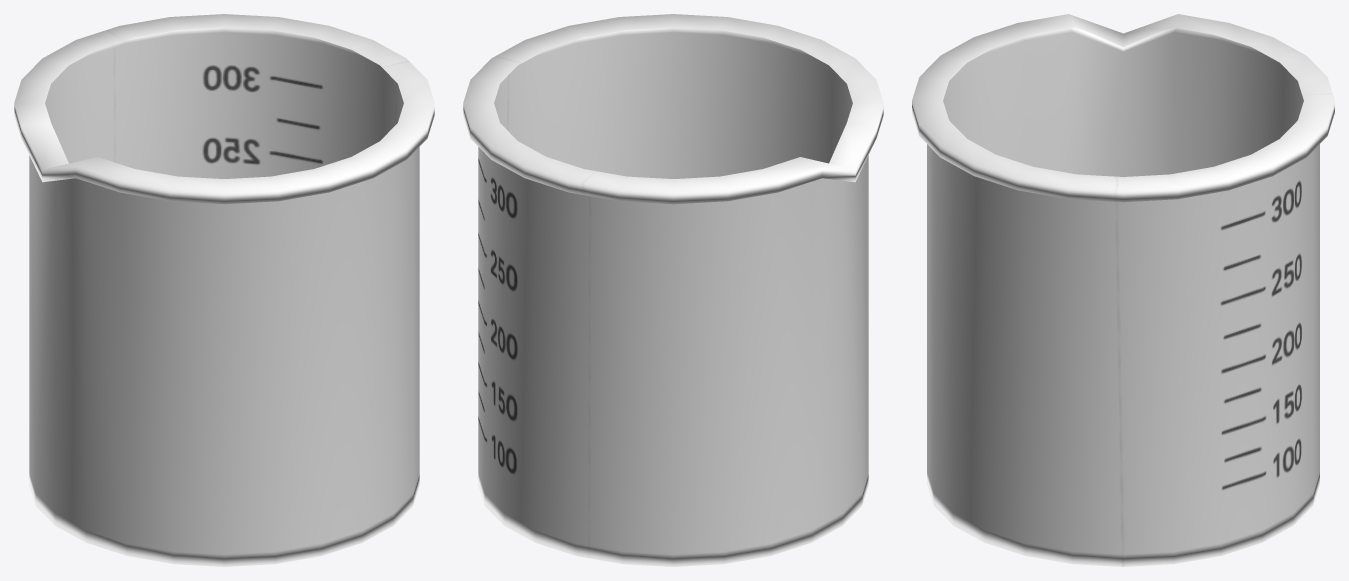
Rendered from Flask4.fbx.
The picture shows the model from 3 angles, left to right: view 1: azimuth 30°, elevation 25°; view 2: azimuth 150°, elevation 25°; view 3: azimuth 270°, elevation 25°; orthographic projection.
Parts seen in each view (by area): view 1: pCylinder3; view 2: pCylinder3; view 3: pCylinder3.
Boxes of the visible parts, <box> form: pCylinder3: <box>14,14,434,566</box>; pCylinder3: <box>463,14,883,566</box>; pCylinder3: <box>912,14,1334,566</box>.
Size of the model in its own units: 2.15 by 2.16 by 2.15.
Materials: 1 (1 with a texture image).
